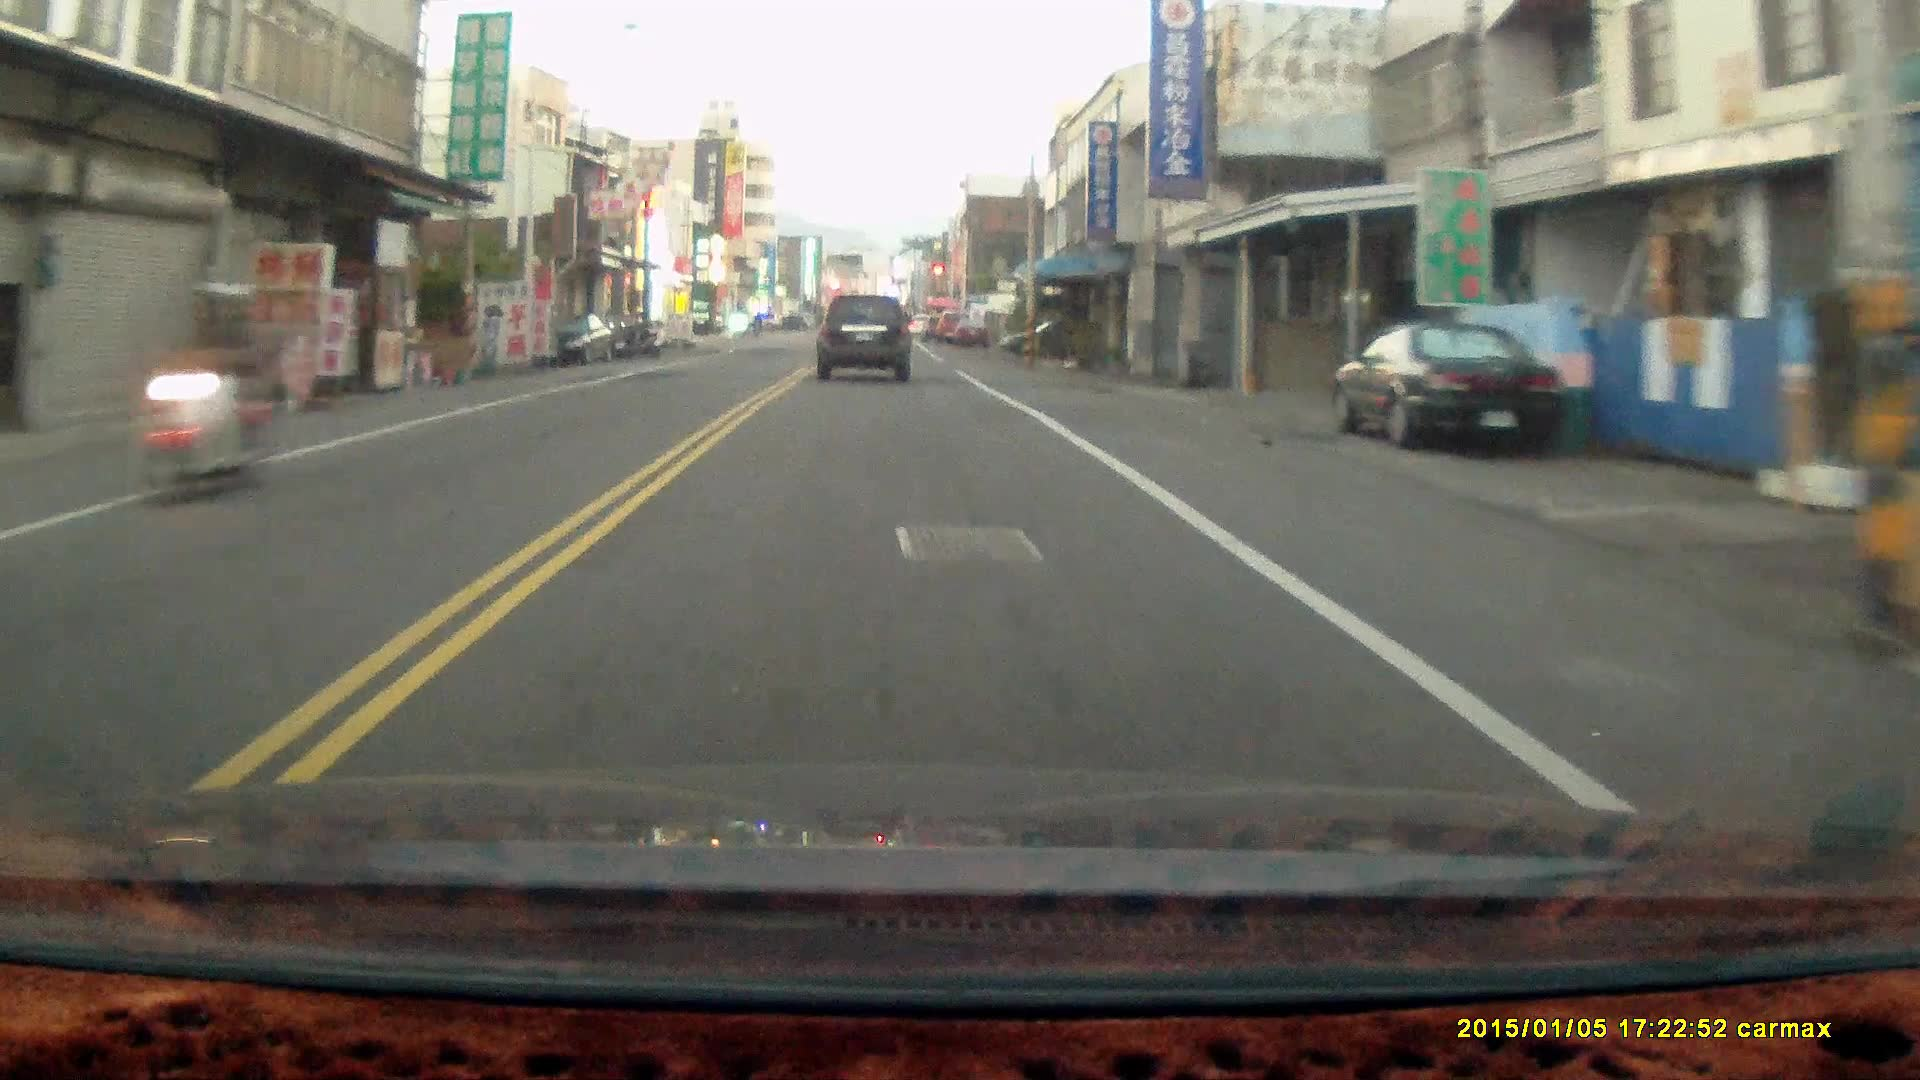rider: (126, 284, 266, 514)
vehicle: (1335, 315, 1573, 454), (816, 290, 913, 381)
